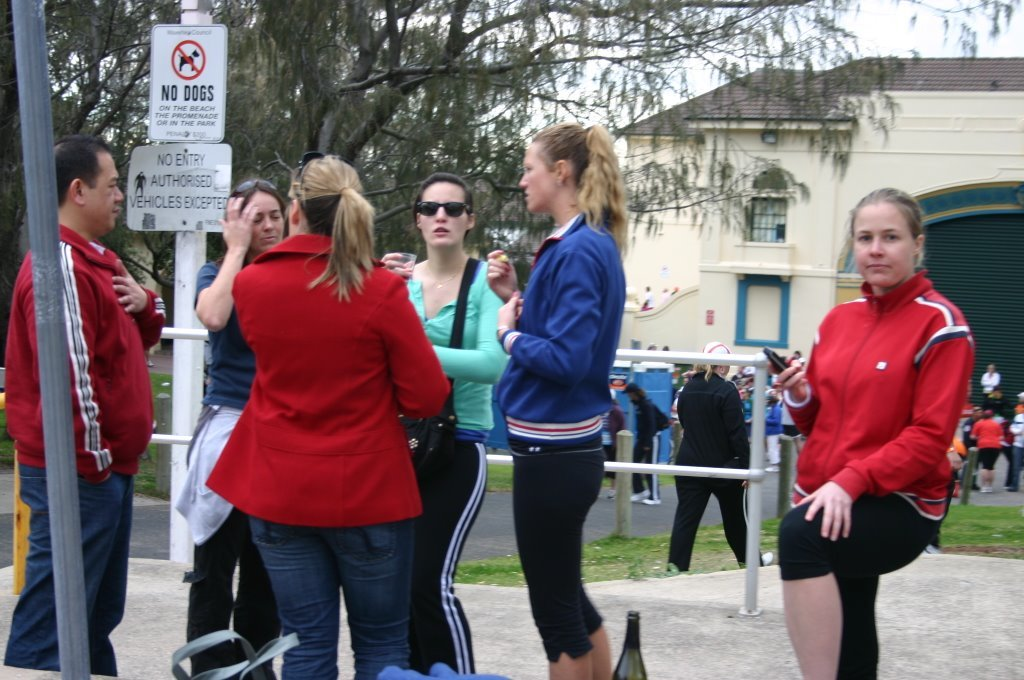Tree: (0, 0, 1020, 261)
